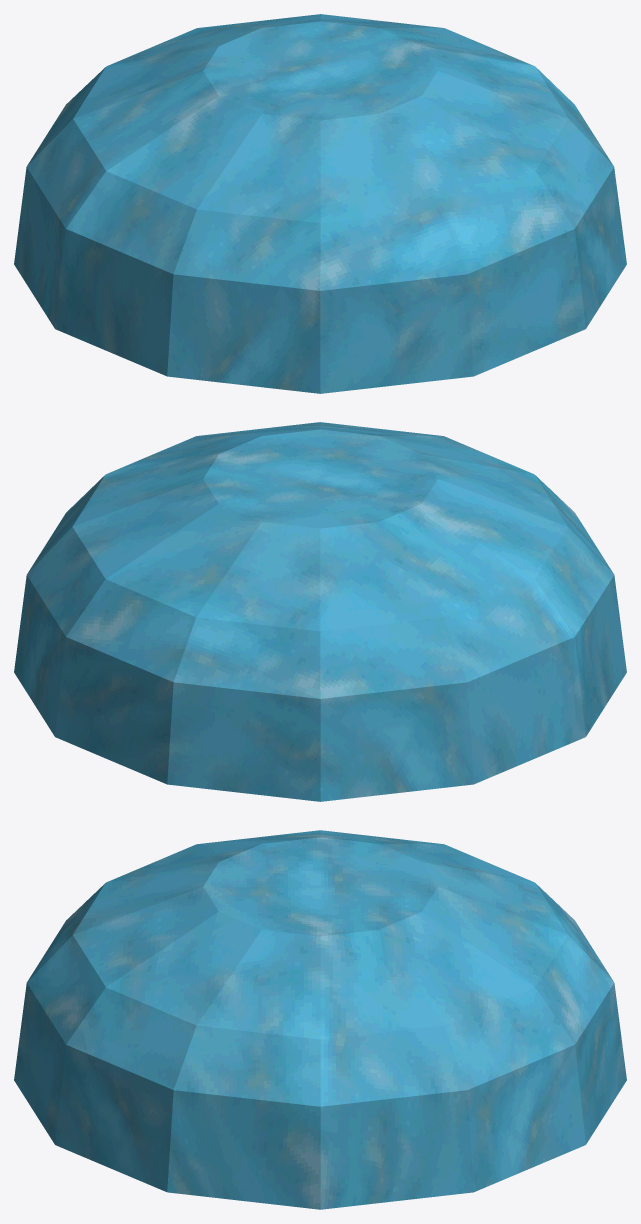
The model's file is recovered_map_mp10.glb.
3 views of the same model, one above another, from view 1: azimuth 30°, elevation 25°; view 2: azimuth 150°, elevation 25°; view 3: azimuth 270°, elevation 25° (orthographic).
Visible parts, largest first — view 1: S_m19_skycap01; view 2: S_m19_skycap01; view 3: S_m19_skycap01.
Part boxes in pixels (x1,y1,x2,y2): S_m19_skycap01: (14,14,626,393); S_m19_skycap01: (14,422,626,801); S_m19_skycap01: (14,830,626,1209).
Size of what is drawn, in the model's own units: 348 by 121 by 348.
Materials: 33 (33 with a texture image).
